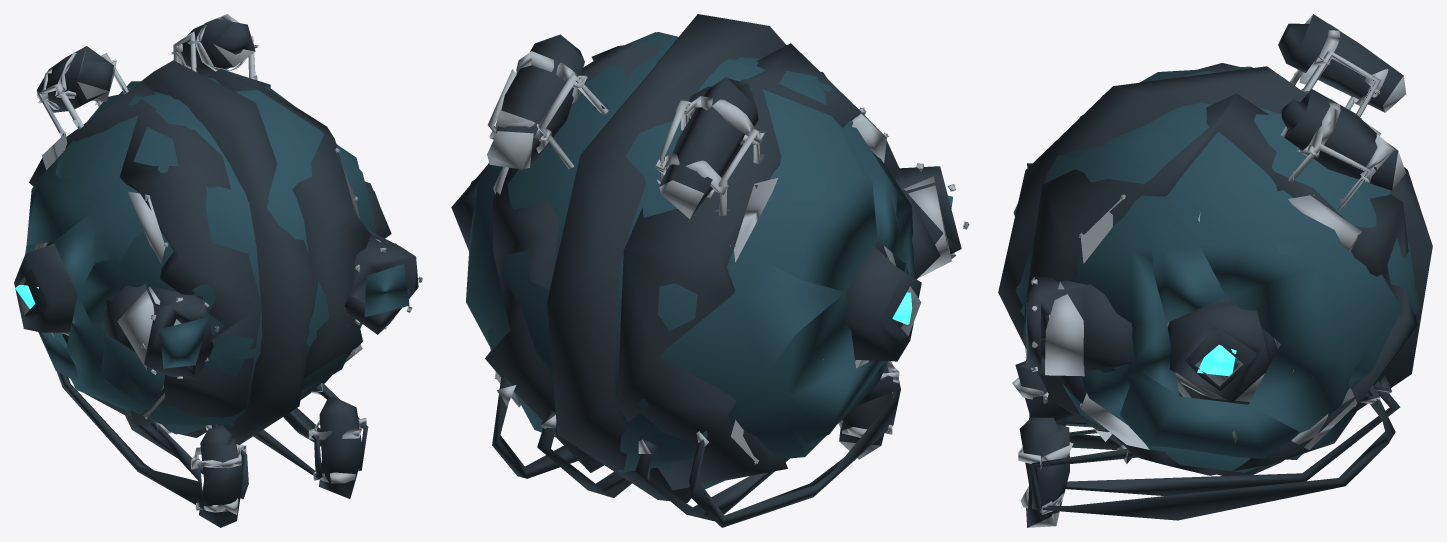
Rendered from bs-sentry-lod.glb.
3 views of the same model, side by side, from view 1: azimuth 30°, elevation 25°; view 2: azimuth 150°, elevation 25°; view 3: azimuth 270°, elevation 25° (orthographic). The views are drawn at different scales.
Parts seen in each view (by area): view 1: bs_drone_ball; view 2: bs_drone_ball; view 3: bs_drone_ball.
Part boxes in pixels (left/top/right/bottom): bs_drone_ball: left=14, top=14, right=422, bottom=527; bs_drone_ball: left=451, top=14, right=969, bottom=527; bs_drone_ball: left=998, top=14, right=1432, bottom=527.
Size of the model in its own units: 1.13 by 1.19 by 1.06.
